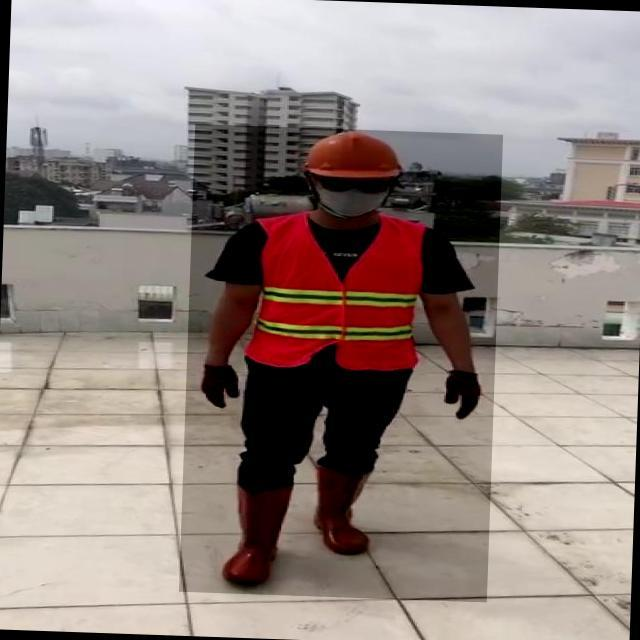Gloves: (198, 362, 241, 407), (443, 370, 481, 420)
Helmet: (296, 128, 407, 181)
Human: (179, 124, 503, 602)
Safety Boot: (220, 483, 293, 586), (311, 460, 376, 555)
Safety Vest: (255, 214, 422, 371)
